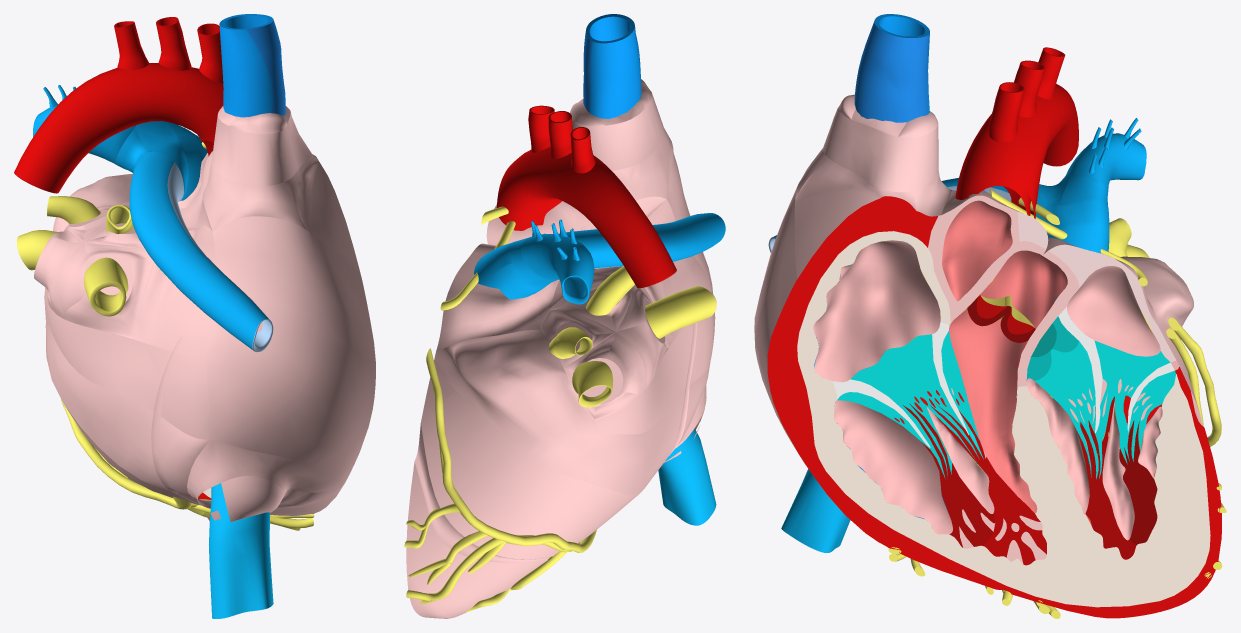
The model's file is Heart.glb.
The picture shows the model from 3 angles, left to right: view 1: azimuth 30°, elevation 25°; view 2: azimuth 150°, elevation 25°; view 3: azimuth 270°, elevation 25°; orthographic projection. The views are drawn at different scales.
Parts seen in each view (by area): view 1: NONE; view 2: NONE; view 3: NONE.
Boxes of the visible parts, bbox=[...] form: NONE: bbox=[14, 14, 375, 618]; NONE: bbox=[404, 14, 725, 618]; NONE: bbox=[754, 14, 1226, 618].
Bounding box in the file's own units: 1.91 × 5 × 3.77.
